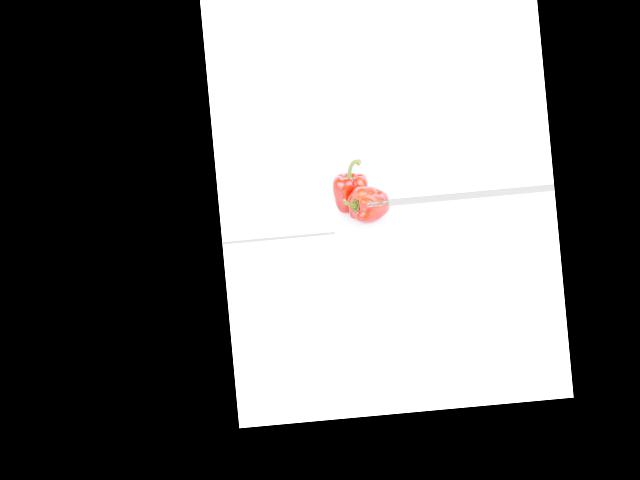bell_pepper: (343, 180, 395, 224)
